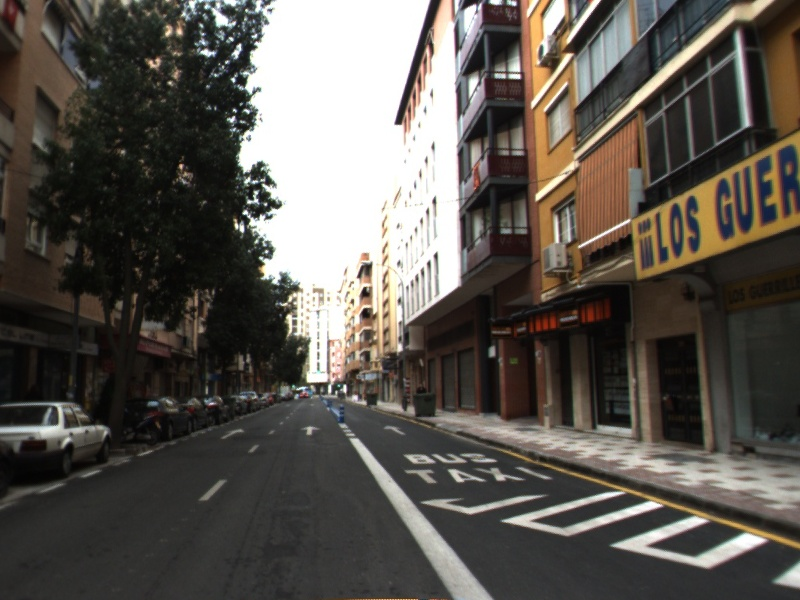STRAIGHT: (218, 426, 247, 441), (381, 423, 408, 437), (299, 424, 323, 437)
